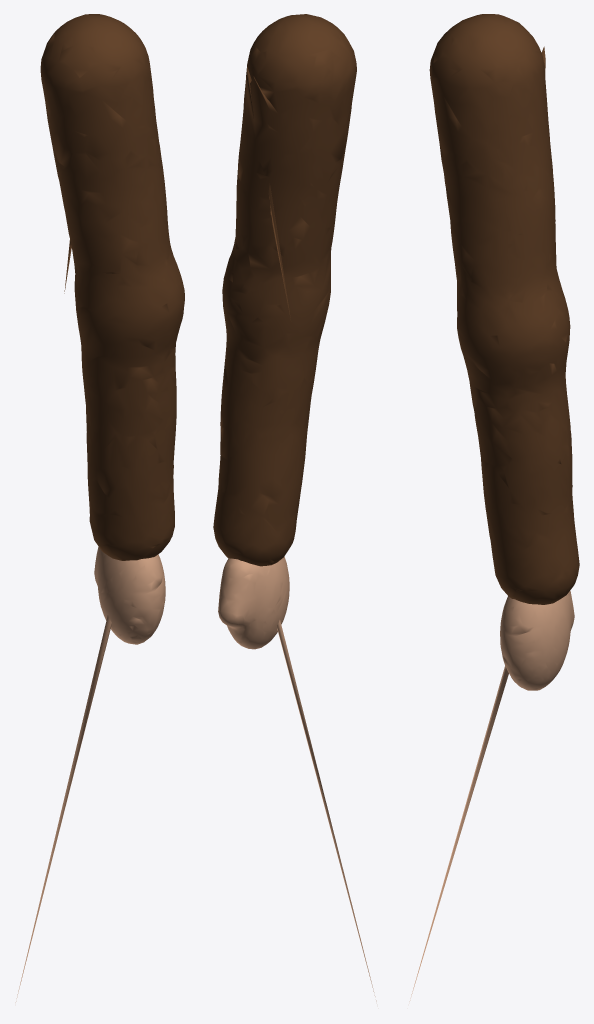
The model's file is son_arm_r.obj.
3 renders of one model, left to right at view 1: azimuth 30°, elevation 25°; view 2: azimuth 150°, elevation 25°; view 3: azimuth 330°, elevation 25°, orthographic. The views are drawn at different scales.
Visible parts, largest first — view 1: sleeve, skin; view 2: sleeve, skin; view 3: sleeve, skin.
Part boxes in pixels (bbox=[...]): sleeve: bbox=[40, 14, 184, 560]; skin: bbox=[15, 546, 165, 1002]; sleeve: bbox=[213, 14, 356, 566]; skin: bbox=[218, 556, 376, 1001]; sleeve: bbox=[429, 14, 579, 604]; skin: bbox=[409, 591, 574, 1001].
Size of the model in its own units: 0.191 by 1.13 by 0.141.
